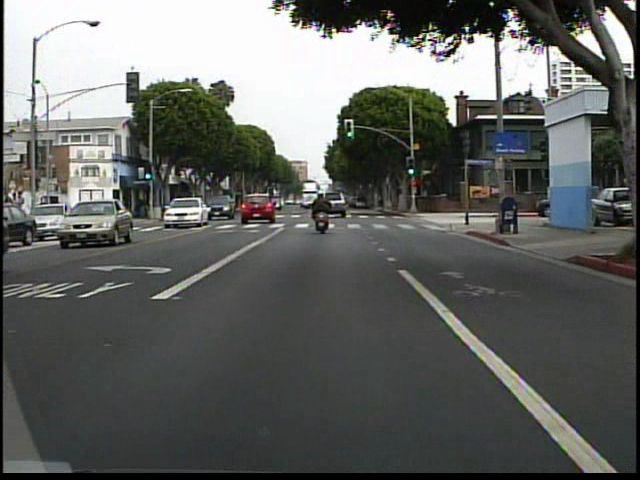person: (308, 185, 339, 244)
